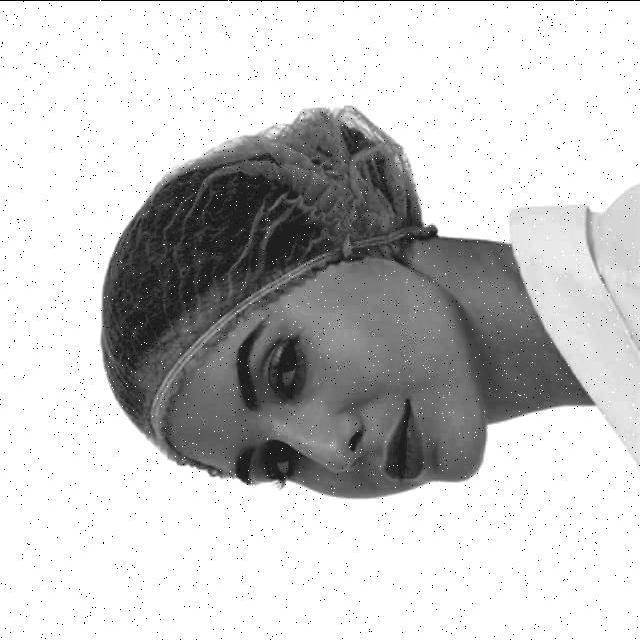gloves: (103, 75, 270, 521)
